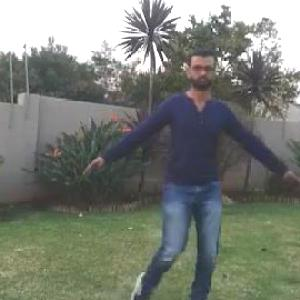land: (111, 76, 256, 254)
